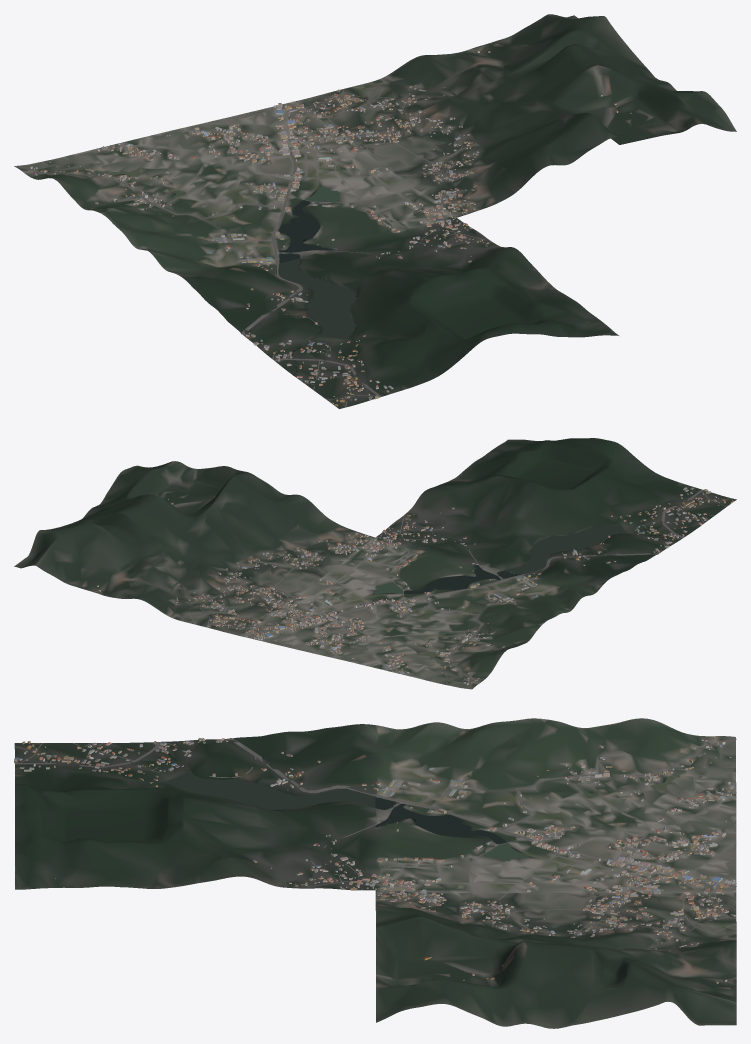
3 renders of one model, top to bottom at view 1: azimuth 30°, elevation 25°; view 2: azimuth 150°, elevation 25°; view 3: azimuth 270°, elevation 25°, orthographic. The views are drawn at different scales.
Parts seen in each view (by area): view 1: ground, buildings, water, roads; view 2: ground, buildings, water, roads; view 3: ground, buildings, water, roads.
Boxes of the visible parts, <box> form: ground: <box>14,14,736,408</box>; buildings: <box>29,51,631,406</box>; water: <box>95,141,445,372</box>; roads: <box>16,51,491,407</box>; ground: <box>14,438,736,689</box>; buildings: <box>97,450,733,684</box>; water: <box>253,523,691,666</box>; roads: <box>101,489,731,689</box>; ground: <box>14,718,736,1028</box>; buildings: <box>14,738,736,983</box>; water: <box>121,746,686,927</box>; roads: <box>14,738,736,979</box>.
Size of the model in its own units: 2801 by 273 by 2810.
